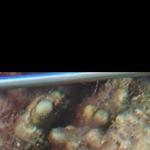dead: (1, 72, 148, 148)
